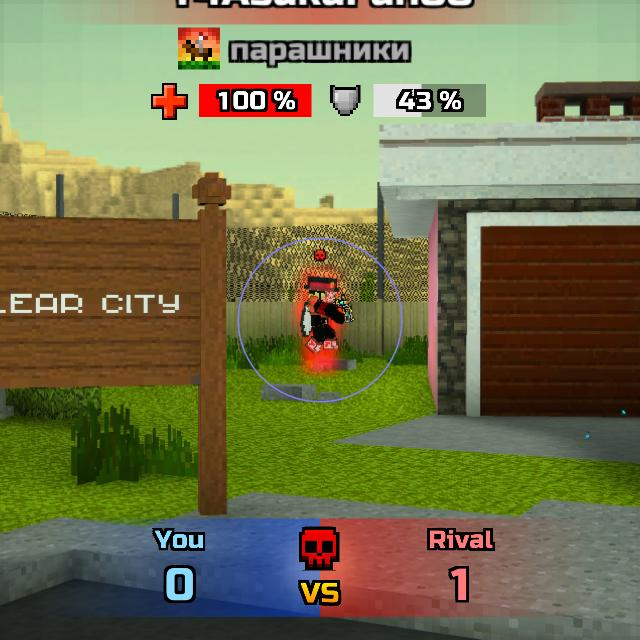Enemy: (300, 286, 342, 355)
